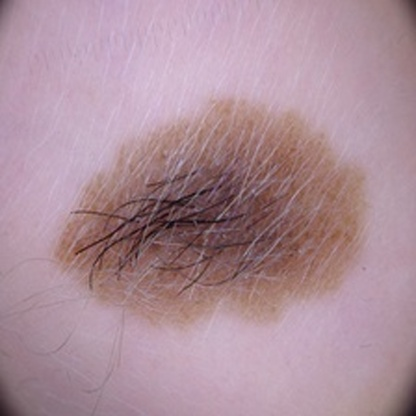benign: (64, 138, 348, 313)
